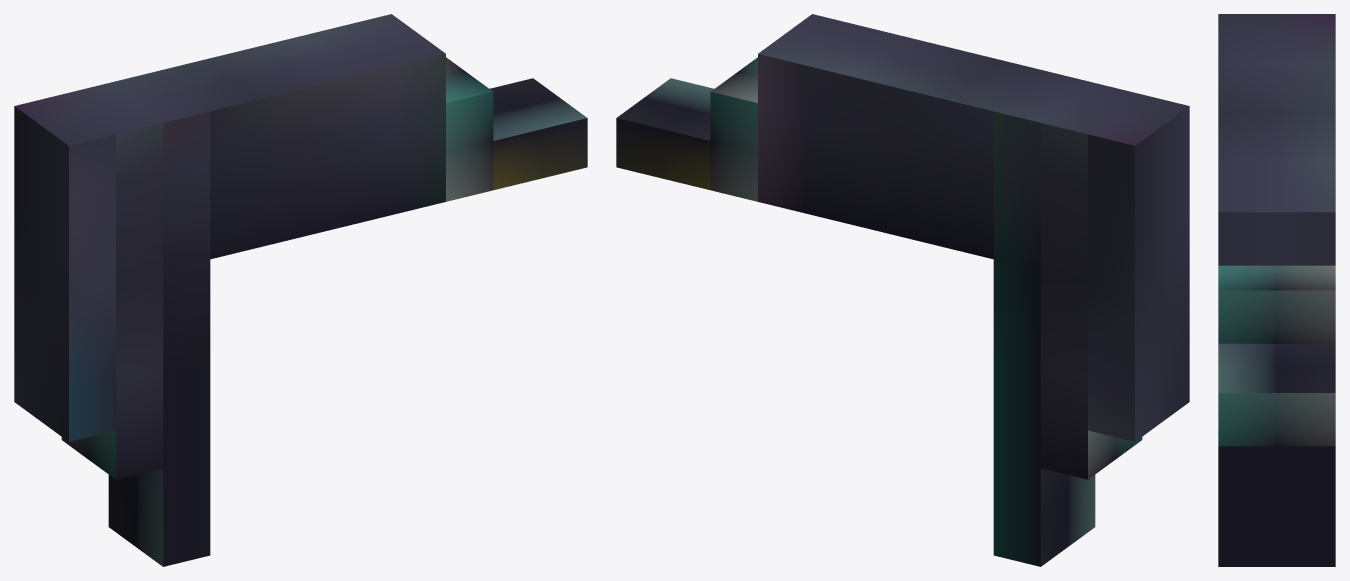
File: Electronics_Angle_B_00.fbx
3 views of the same model, side by side, from view 1: azimuth 30°, elevation 25°; view 2: azimuth 150°, elevation 25°; view 3: azimuth 270°, elevation 25° (orthographic). The views are drawn at different scales.
Parts seen in each view (by area): view 1: Electronics_Angle_B_00; view 2: Electronics_Angle_B_00; view 3: Electronics_Angle_B_00.
Boxes of the visible parts, x1,y1,x2,y2 form: Electronics_Angle_B_00: (14,14,587,566); Electronics_Angle_B_00: (616,14,1189,566); Electronics_Angle_B_00: (1218,14,1335,566).
Bounding box in the file's own units: 55 × 45 × 10.
